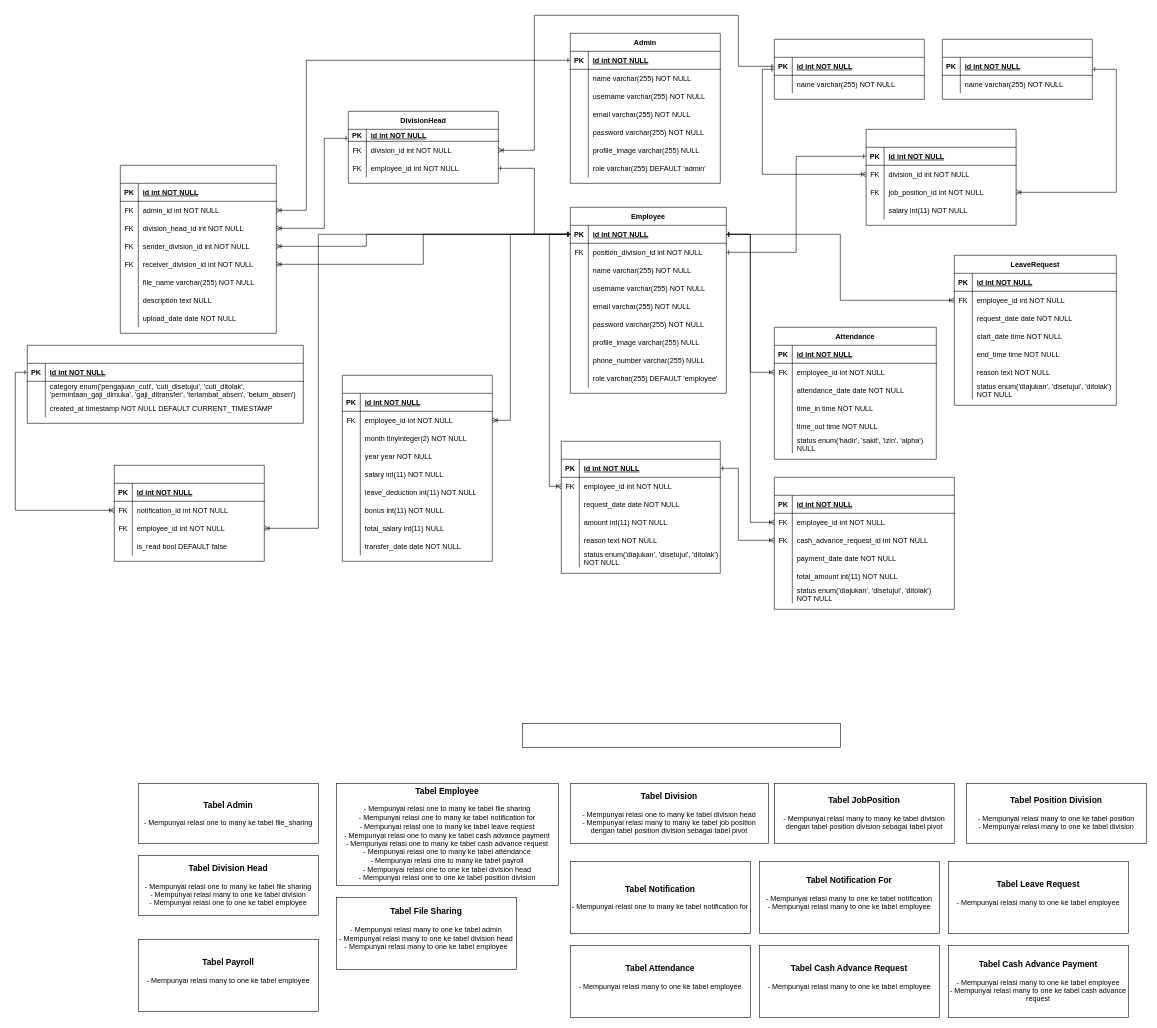
Some shapes in this 1157 by 1028 pixel diagram are drawn without their labels. The box of each missing label's shape, as (x1, y1, x2, y2) in pixels:
CashAdvancePayment: (774, 477, 954, 609)
CashAdvanceRequest: (561, 441, 720, 573)
Division: (774, 39, 924, 99)
FileSharing: (120, 165, 276, 333)
JobPosition: (942, 39, 1092, 99)
Notification: (27, 345, 303, 423)
NotificationFor: (114, 465, 264, 561)
Payroll: (342, 375, 492, 561)
PositionDivision: (866, 129, 1016, 225)
Skema Basis Data: (522, 723, 840, 747)
